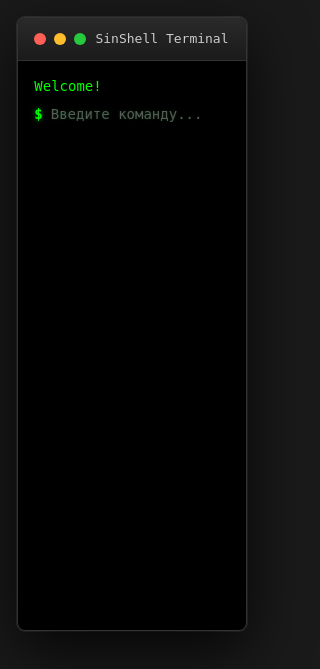
Scenario: Terminal › должен сохранять приветственное сообщение после очистки истории
The width and height of the screenshot is (320, 669).
Выполняем команду
Step 1. Type "test" into the field with test id "terminal-input" → (140,114), box [51,105,230,124]
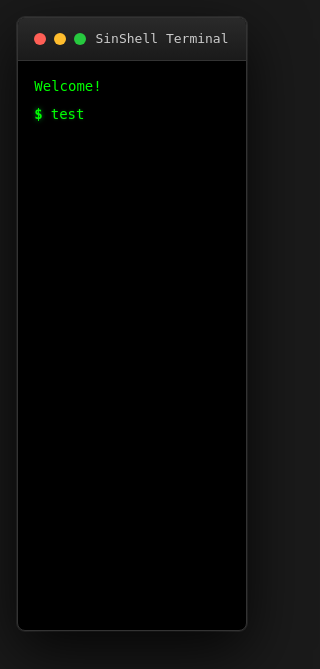
Step 2. Press Enter in the field with test id "terminal-input", box [51,105,230,124]
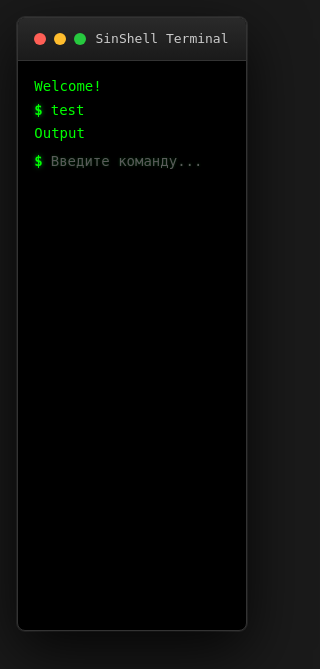
Check: the text "Welcome!" is shown, box [34,78,102,94]
Check: the text "test" is shown, box [51,102,84,118]
